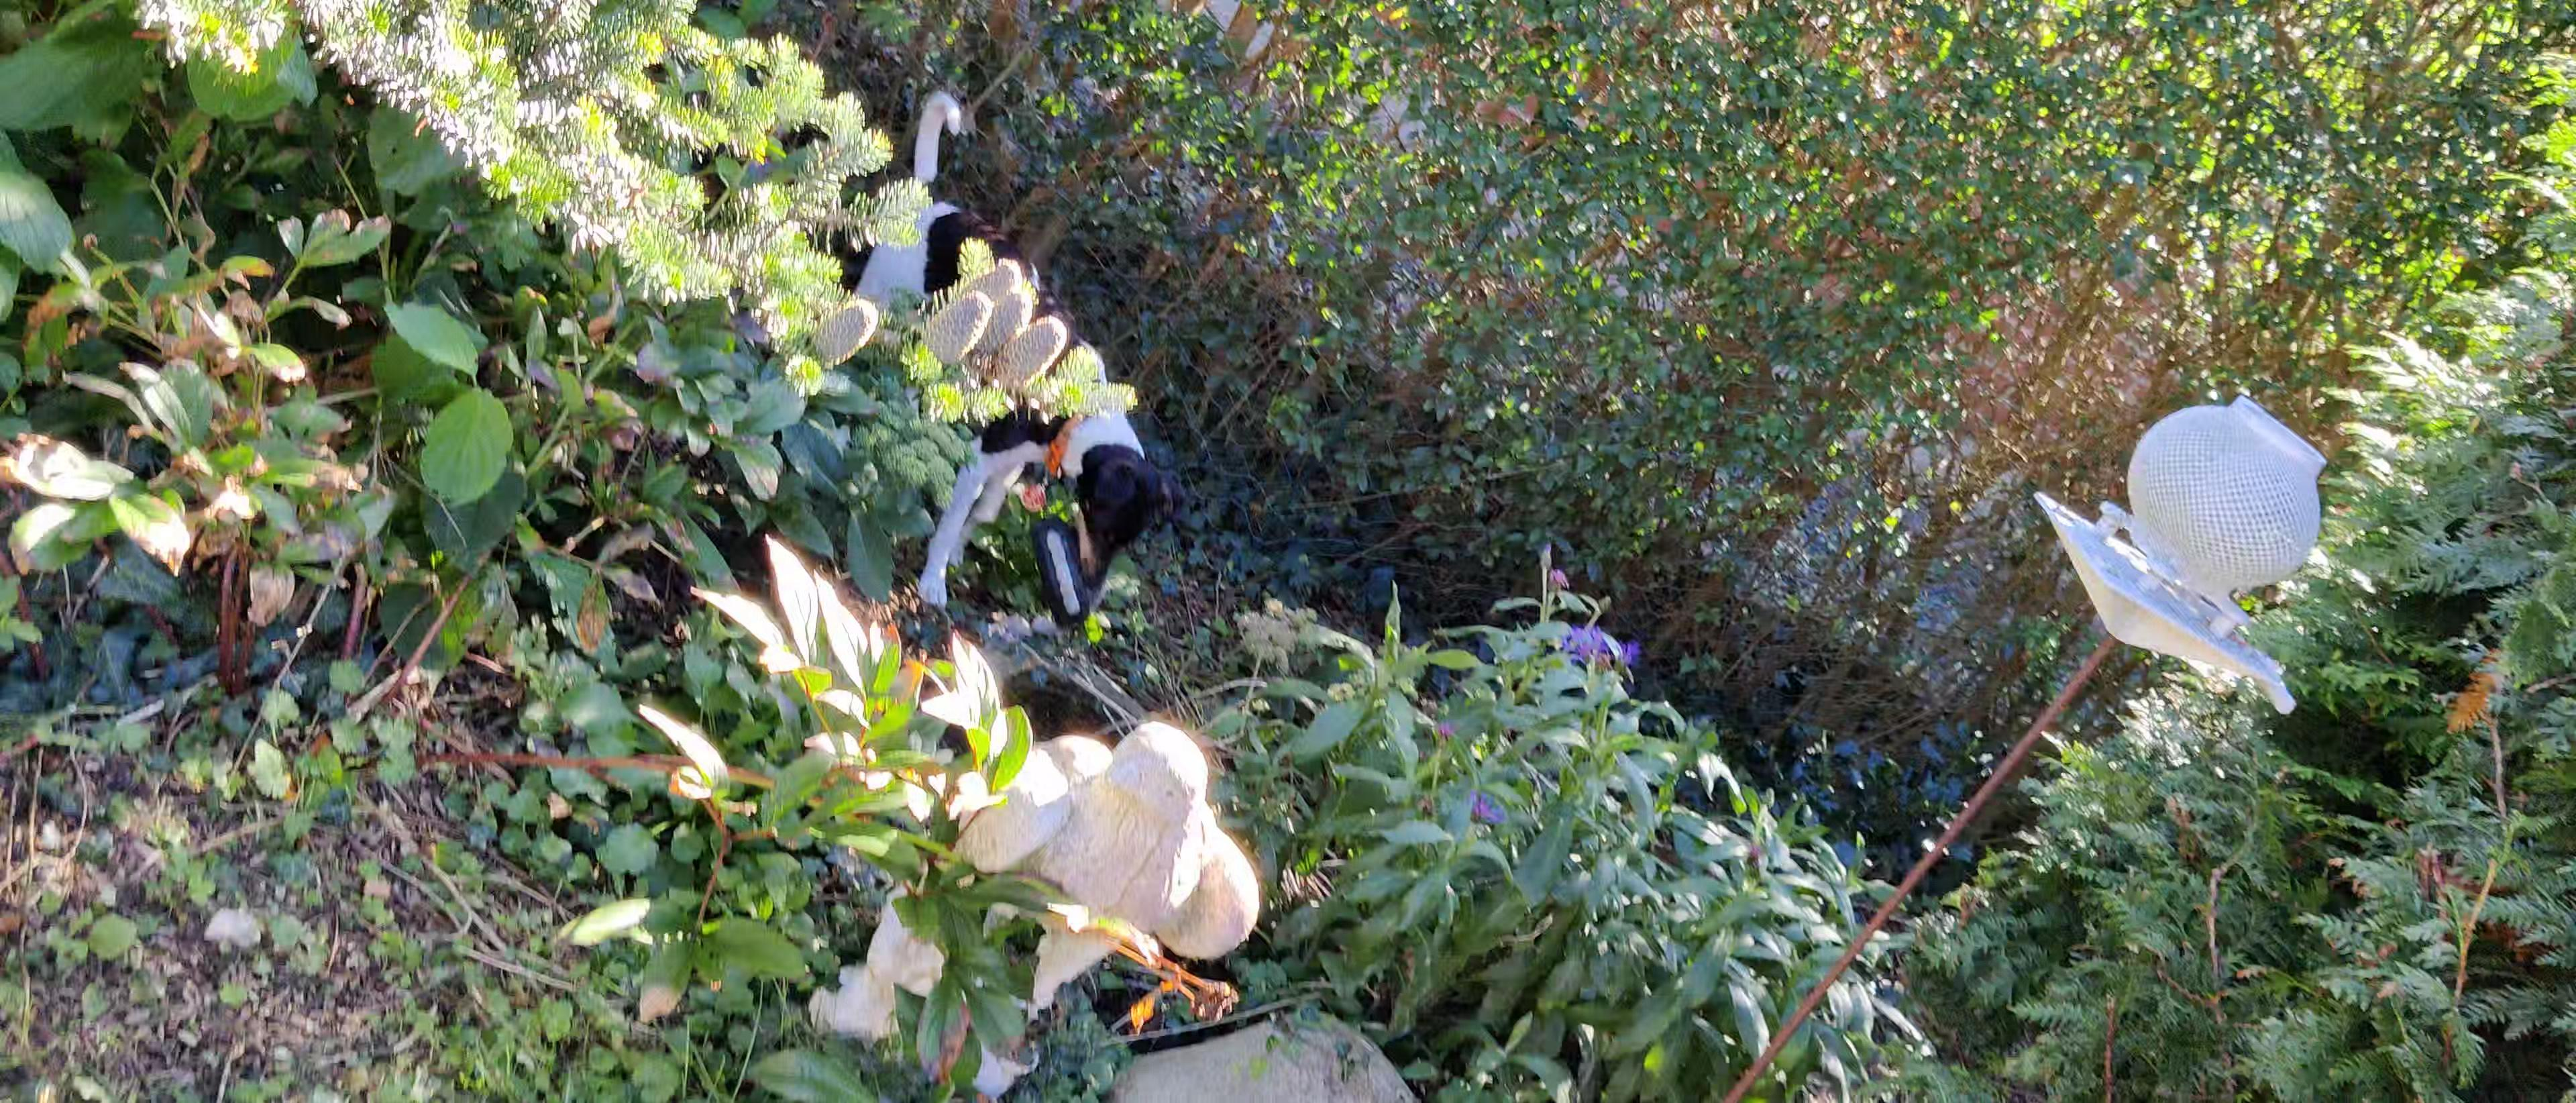Dog: (849, 84, 1193, 607)
